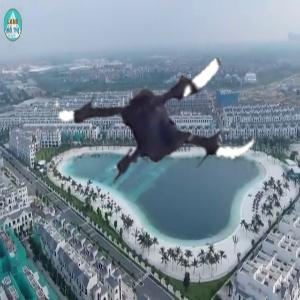drone: (59, 7, 267, 215)
